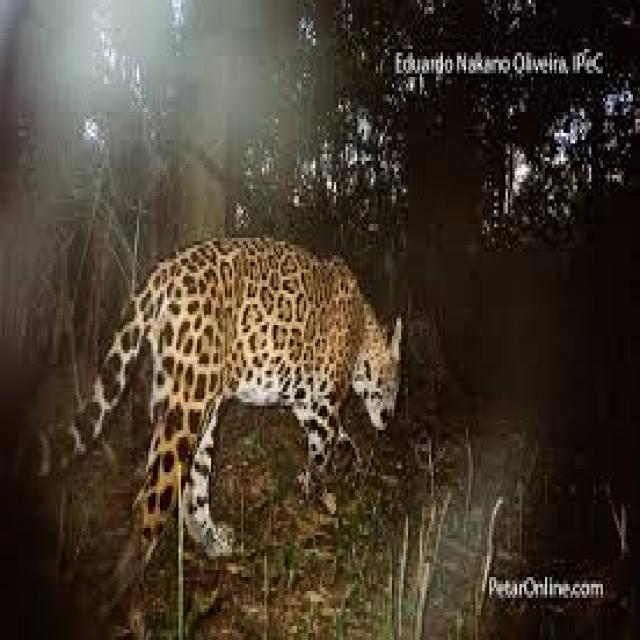Jaguar: (88, 241, 399, 539)
